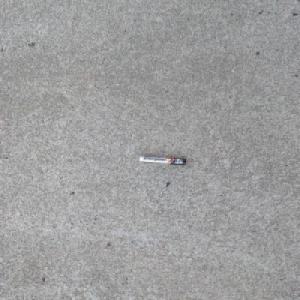Battery: (135, 155, 186, 166)
